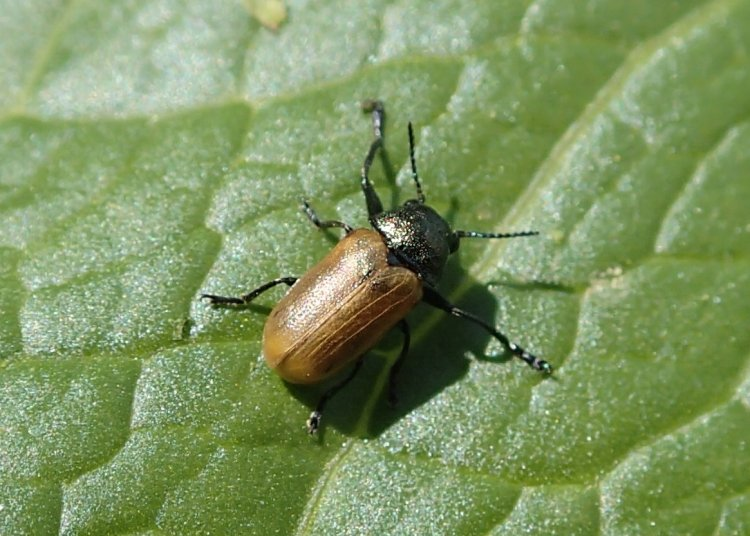Labidostomis_longimana: (192, 96, 560, 463)
